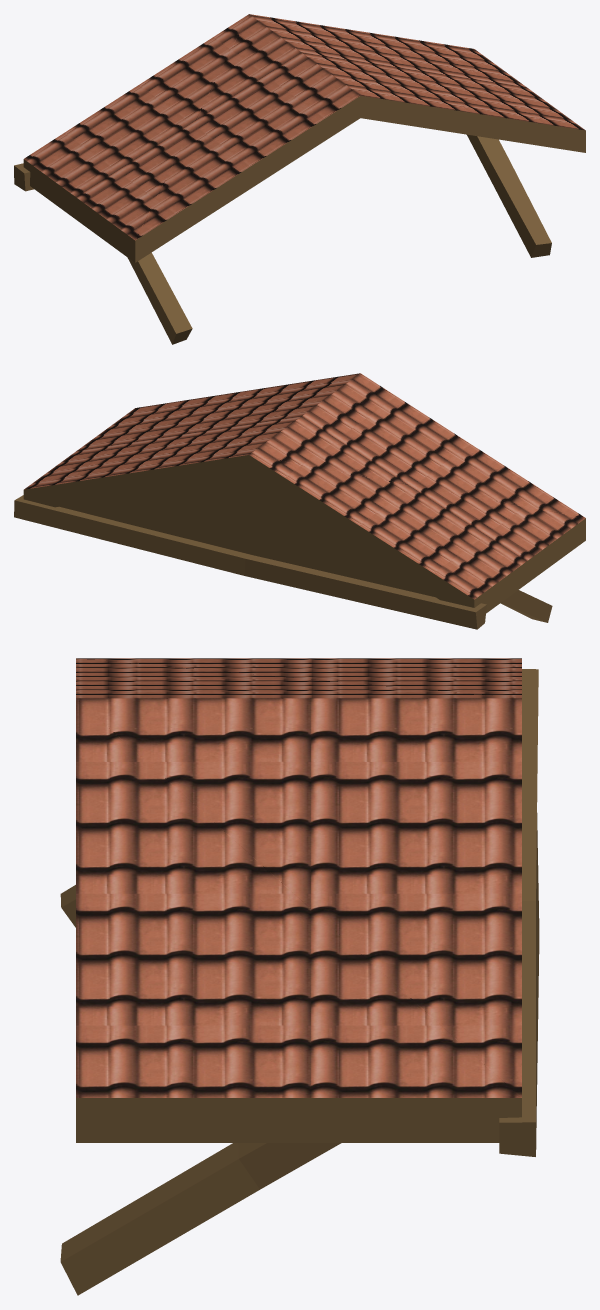
File: town_Entry_clay.glb
3 views of the same model, one above another, from view 1: azimuth 30°, elevation 25°; view 2: azimuth 150°, elevation 25°; view 3: azimuth 270°, elevation 25° (orthographic). The views are drawn at different scales.
Parts seen in each view (by area): view 1: Repaired entry clay; view 2: Repaired entry clay; view 3: Repaired entry clay.
Part boxes in pixels (x1,y1,x2,y2): Repaired entry clay: (14, 14, 585, 344); Repaired entry clay: (14, 373, 585, 629); Repaired entry clay: (60, 658, 539, 1295).
Bounding box in the file's own units: 2.16 × 0.9173 × 0.9662.
2 materials, 1 textured.
